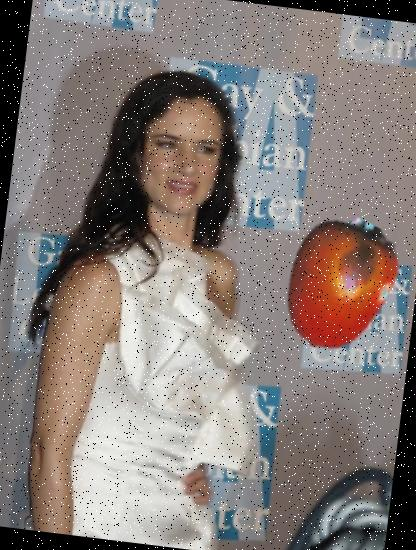Kaki: (261, 208, 413, 360)
